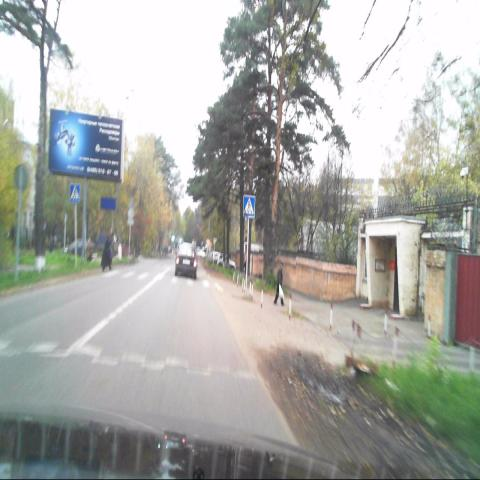5_19_1: (243, 195, 256, 218), (69, 183, 80, 202)
